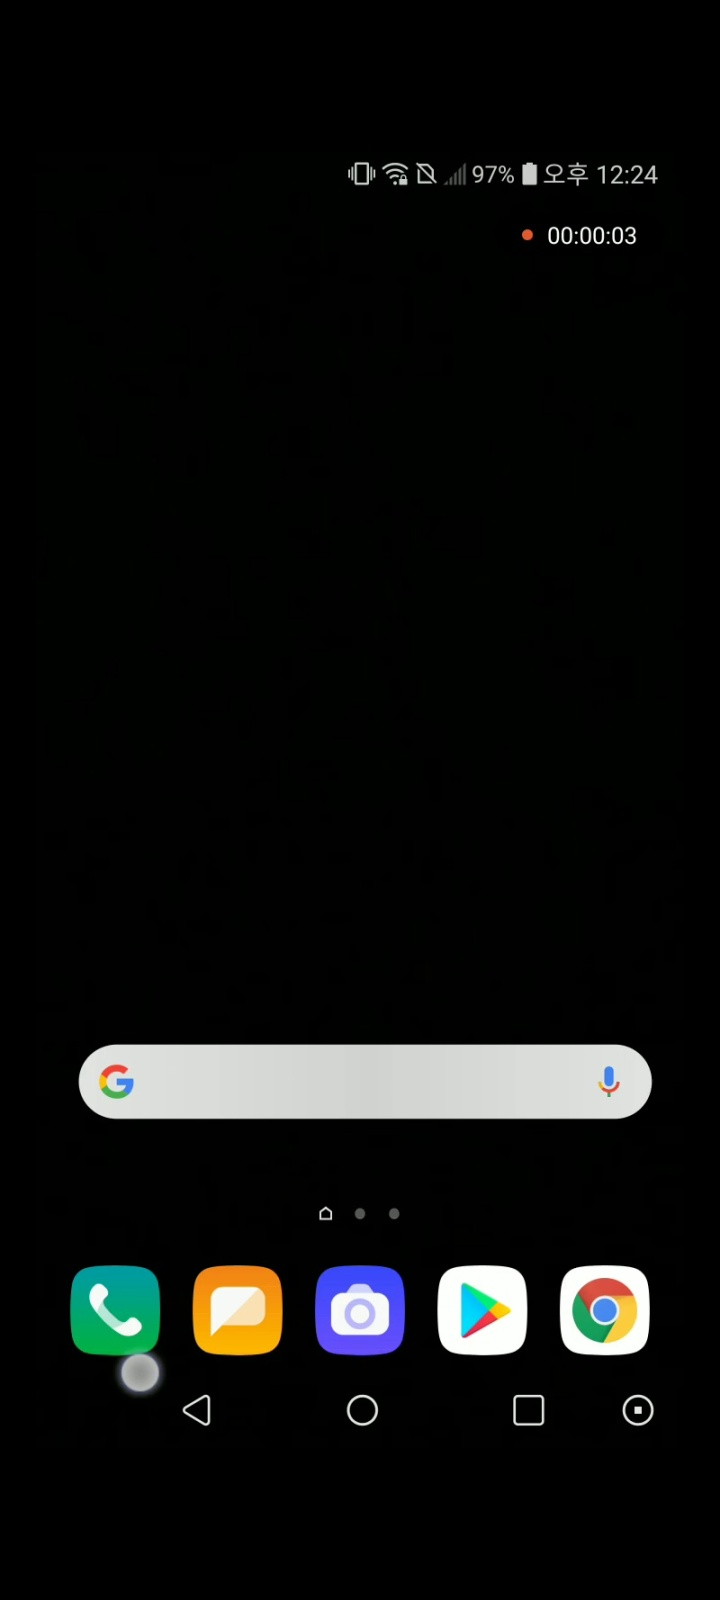Cursor: (120, 1352, 165, 1397)
